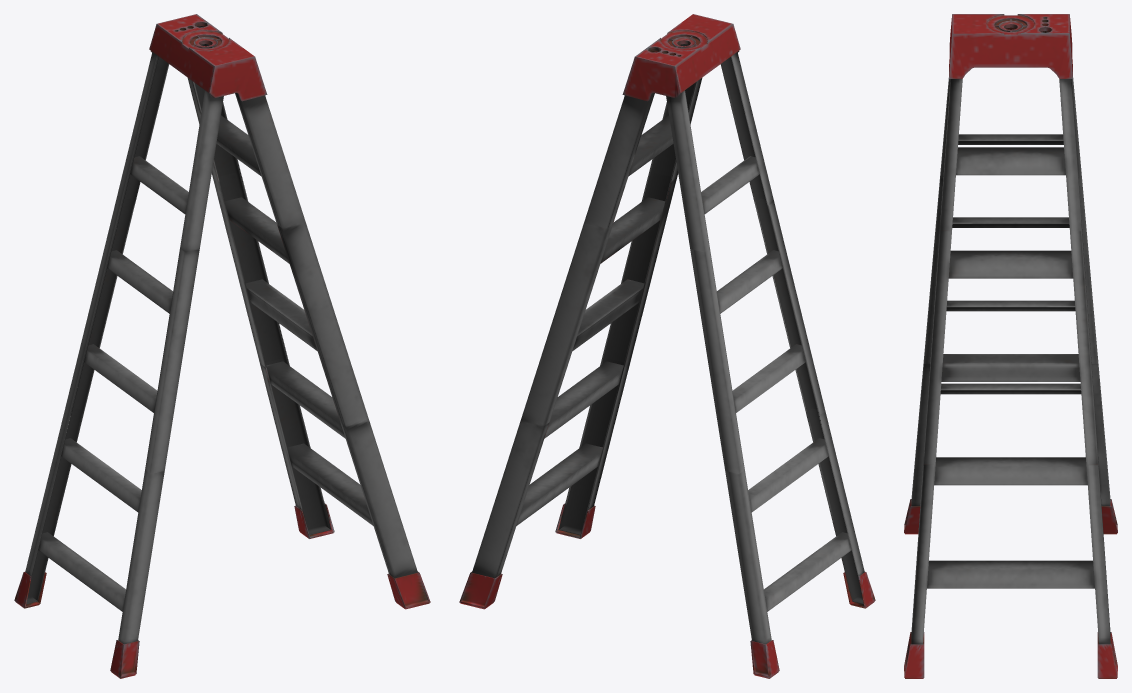
File: ladder.fbx
3 renders of one model, left to right at view 1: azimuth 30°, elevation 25°; view 2: azimuth 150°, elevation 25°; view 3: azimuth 270°, elevation 25°, orthographic.
Visible parts, largest first — view 1: Fiberglass_Ladder_Spreader_Base_low; view 2: Fiberglass_Ladder_Spreader_Base_low; view 3: Fiberglass_Ladder_Spreader_Base_low.
Part boxes in pixels (x1,y1,x2,y2): Fiberglass_Ladder_Spreader_Base_low: (14, 14, 430, 678); Fiberglass_Ladder_Spreader_Base_low: (459, 14, 875, 678); Fiberglass_Ladder_Spreader_Base_low: (904, 14, 1117, 678).
Size of the model in its own units: 1.15 by 2 by 0.6785.
